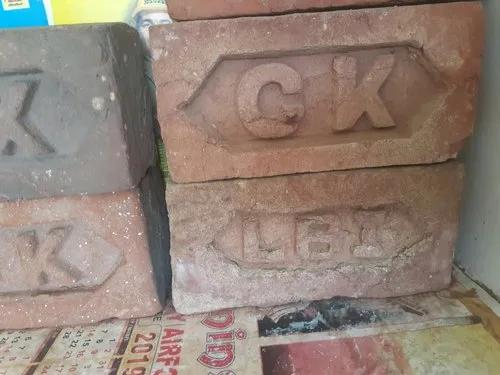brick: (149, 3, 481, 181), (166, 161, 465, 316), (0, 195, 161, 333), (0, 24, 127, 194)
